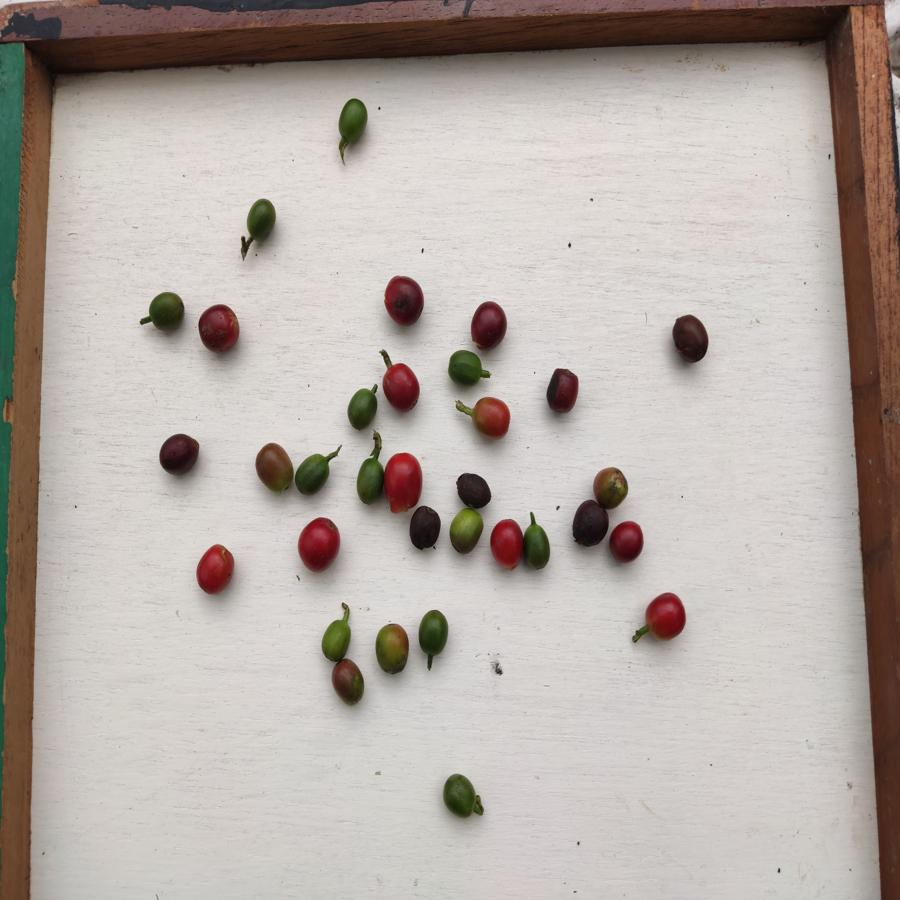Inmaduro: (293, 446, 333, 500), (144, 287, 187, 333), (447, 505, 485, 556), (415, 604, 450, 658), (442, 772, 479, 822), (521, 519, 554, 571), (335, 95, 370, 143), (355, 454, 385, 507), (321, 615, 353, 663), (346, 384, 379, 430), (245, 198, 278, 242), (447, 349, 483, 389)
Maduro: (296, 516, 343, 575), (384, 450, 423, 511), (196, 541, 237, 597), (644, 587, 686, 641), (379, 363, 421, 413), (472, 394, 513, 443), (489, 517, 523, 571), (608, 519, 649, 563)
Pinton: (253, 441, 295, 495), (374, 621, 411, 677), (331, 661, 368, 706), (594, 463, 628, 507)
Sobremaduro: (195, 302, 247, 354), (383, 269, 425, 331), (467, 297, 508, 349), (157, 431, 203, 477), (545, 365, 585, 416), (673, 312, 711, 365), (569, 500, 609, 550), (453, 471, 499, 510), (409, 503, 442, 553)
